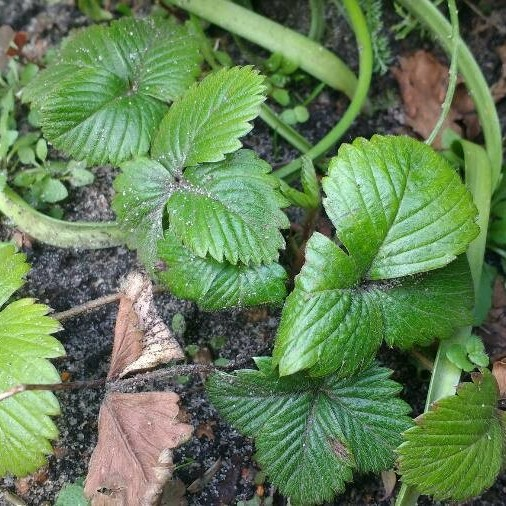obstacle: (67, 39, 484, 491)
